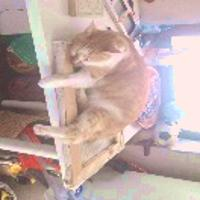asleep: (33, 19, 151, 143)
